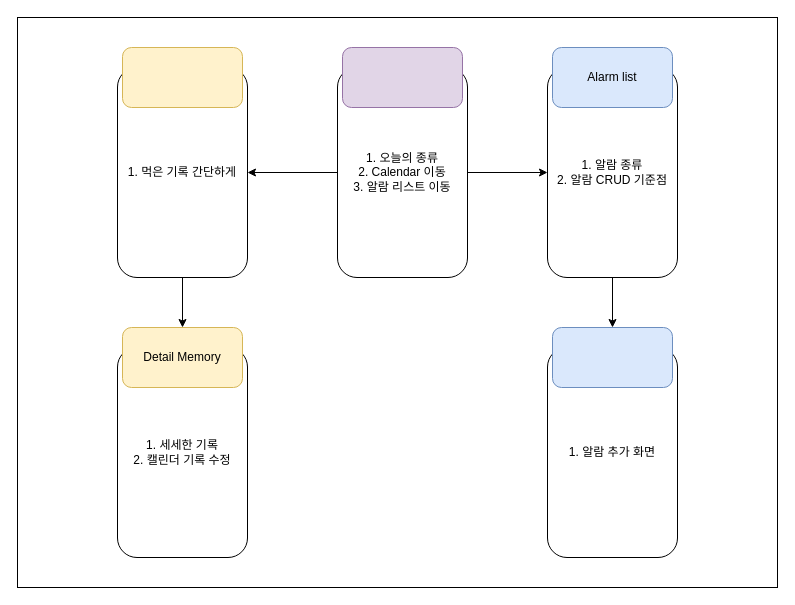
Image size: 795x605. Some labels were removed from this diagram. Here are the shapes that lost their labels. From the top down, the centre of each, then its label:
At (x=182, y=77): "Calendar".
At (x=402, y=77): "Home(Main)".
At (x=612, y=357): "Add alarm".
